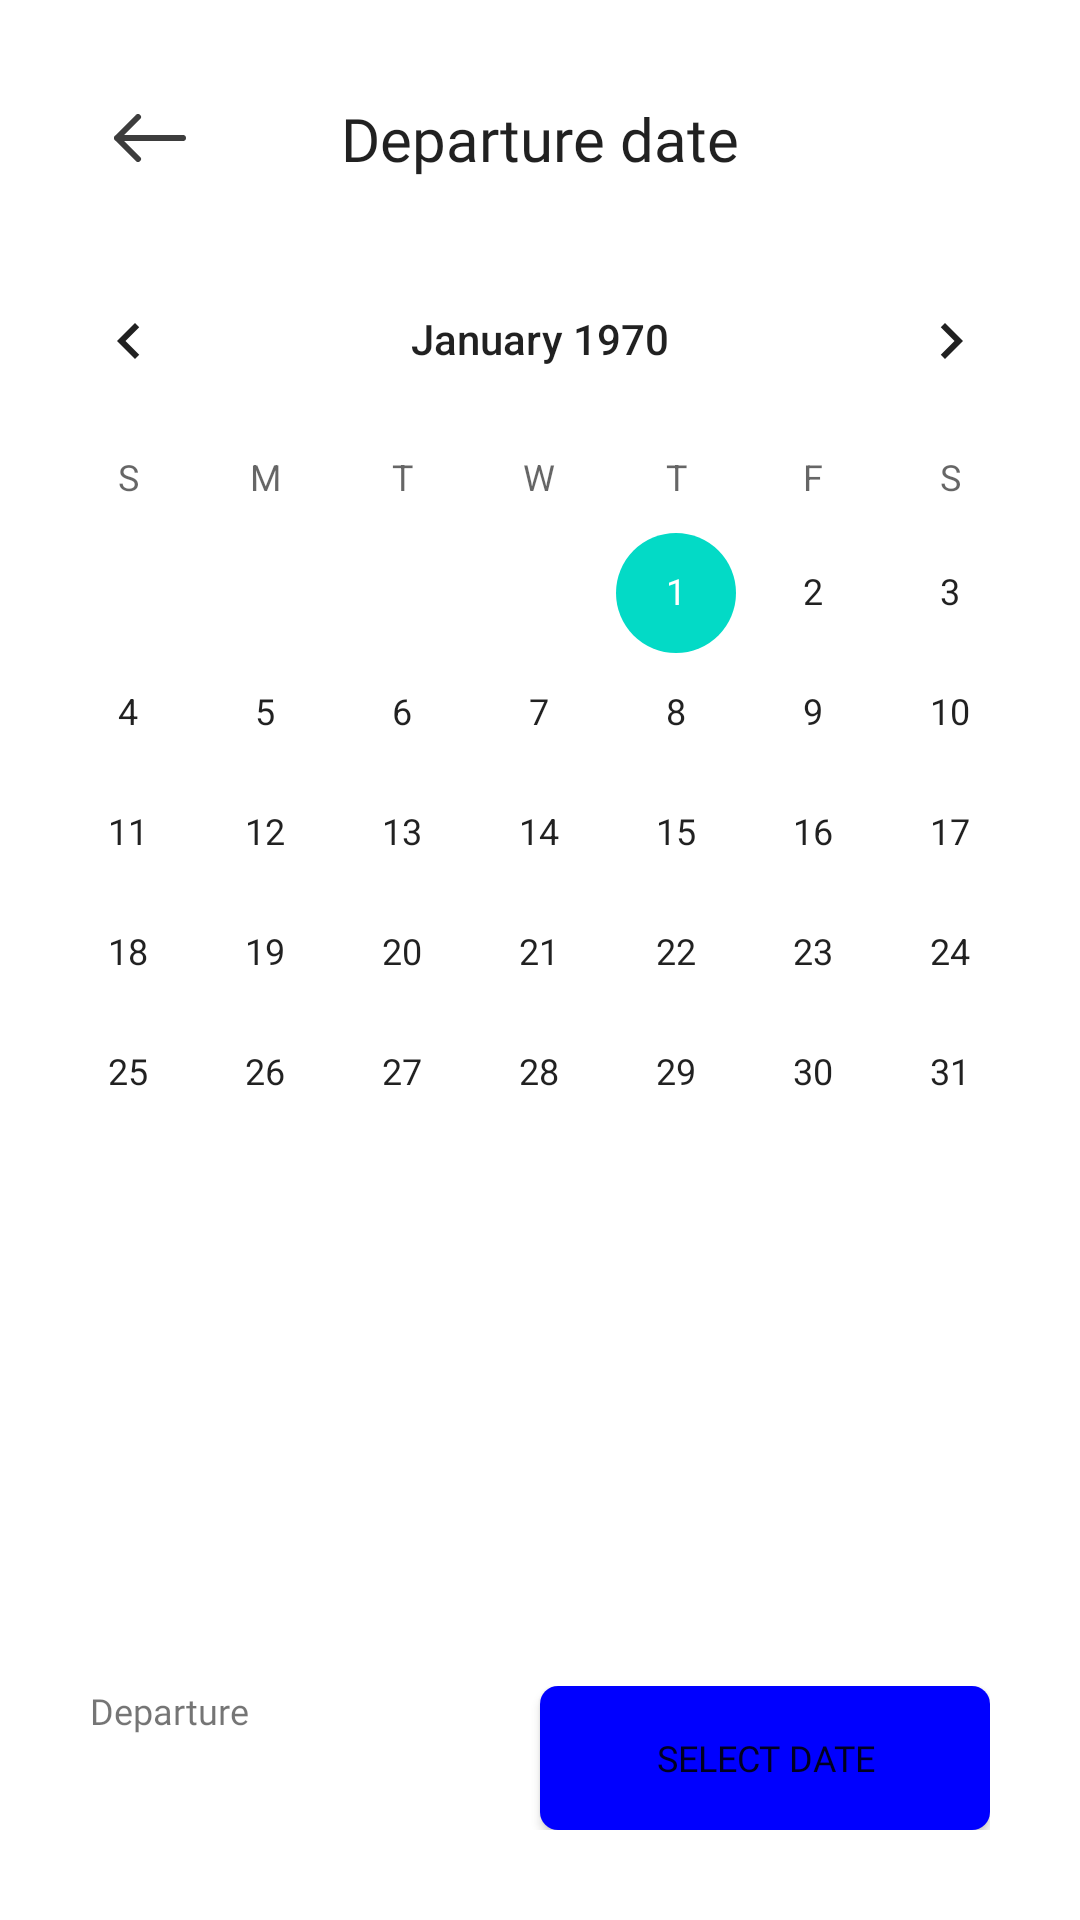

Point at icon controls on the screen. Image size 1080 × 1920, points as (x,y).
Back Button: (150,138)
